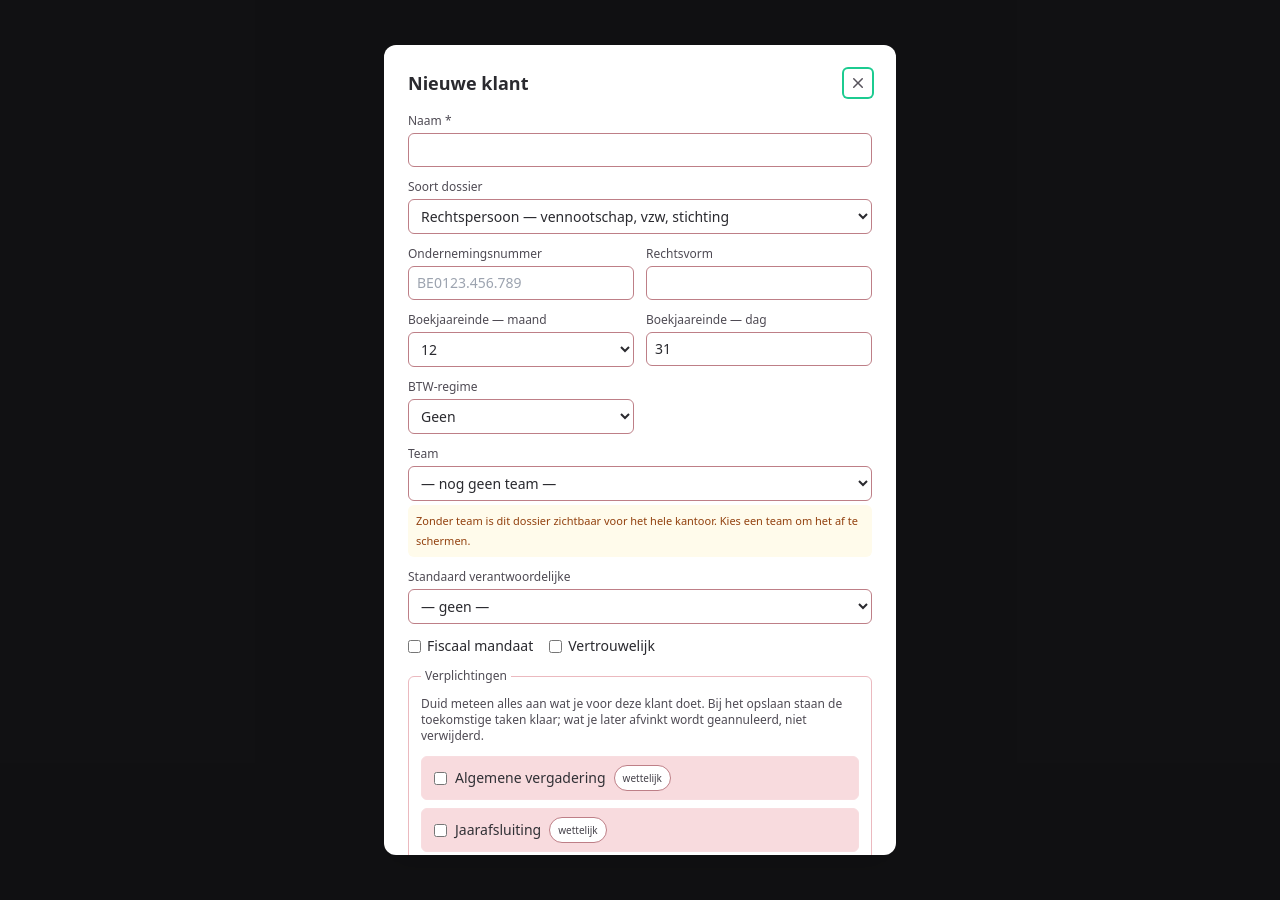
Test: ClientFormModal — submit error handling › shows the RLS reason and SQLSTATE when the insert is refused by row-level security
The width and height of the screenshot is (1280, 900).
Type "Acme BV" into the field labelled "Naam *" at (640, 150), box x1=408 y1=133 x2=872 y2=167
(page scrolled)
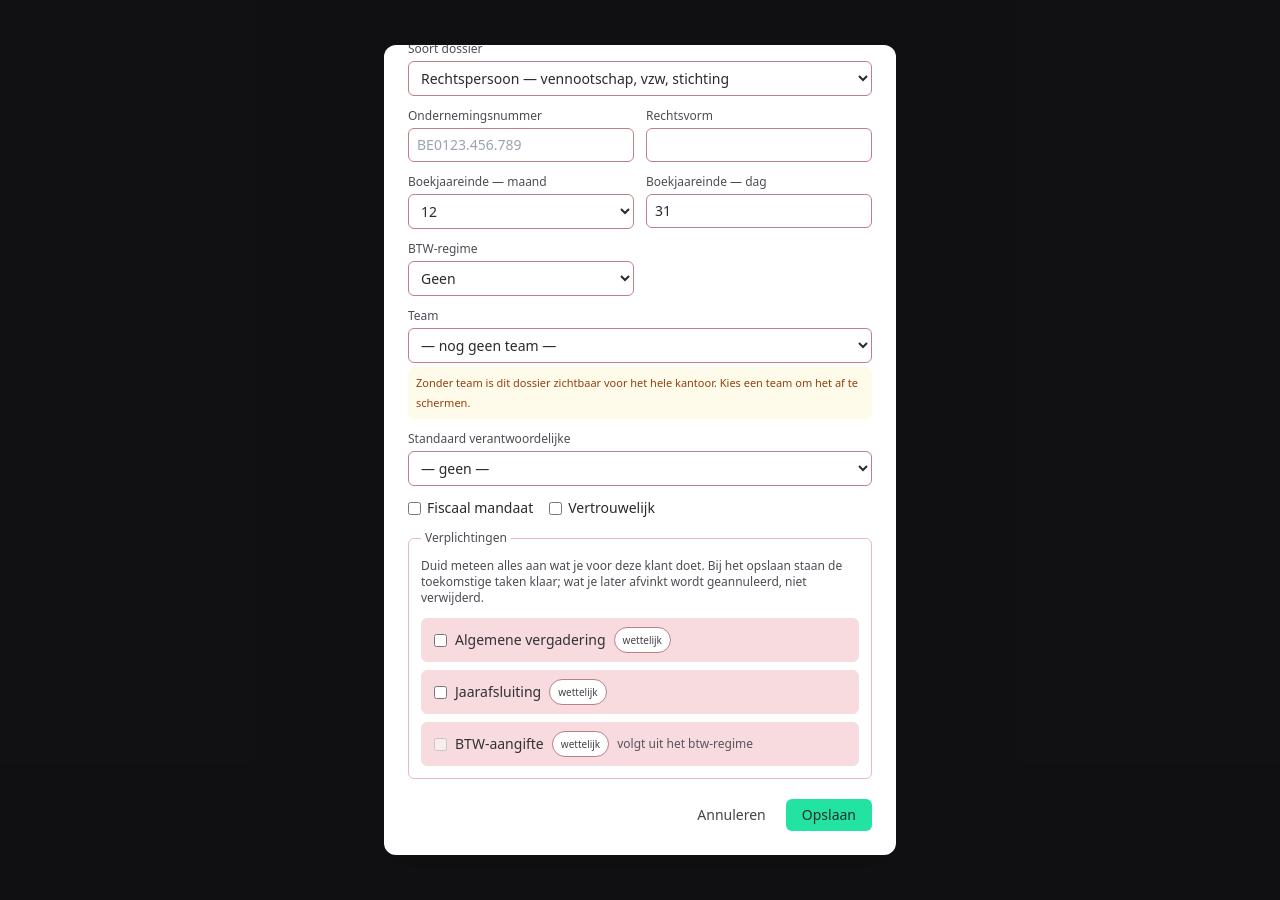
Click the button "Opslaan" at (829, 815), box x1=786 y1=799 x2=872 y2=831
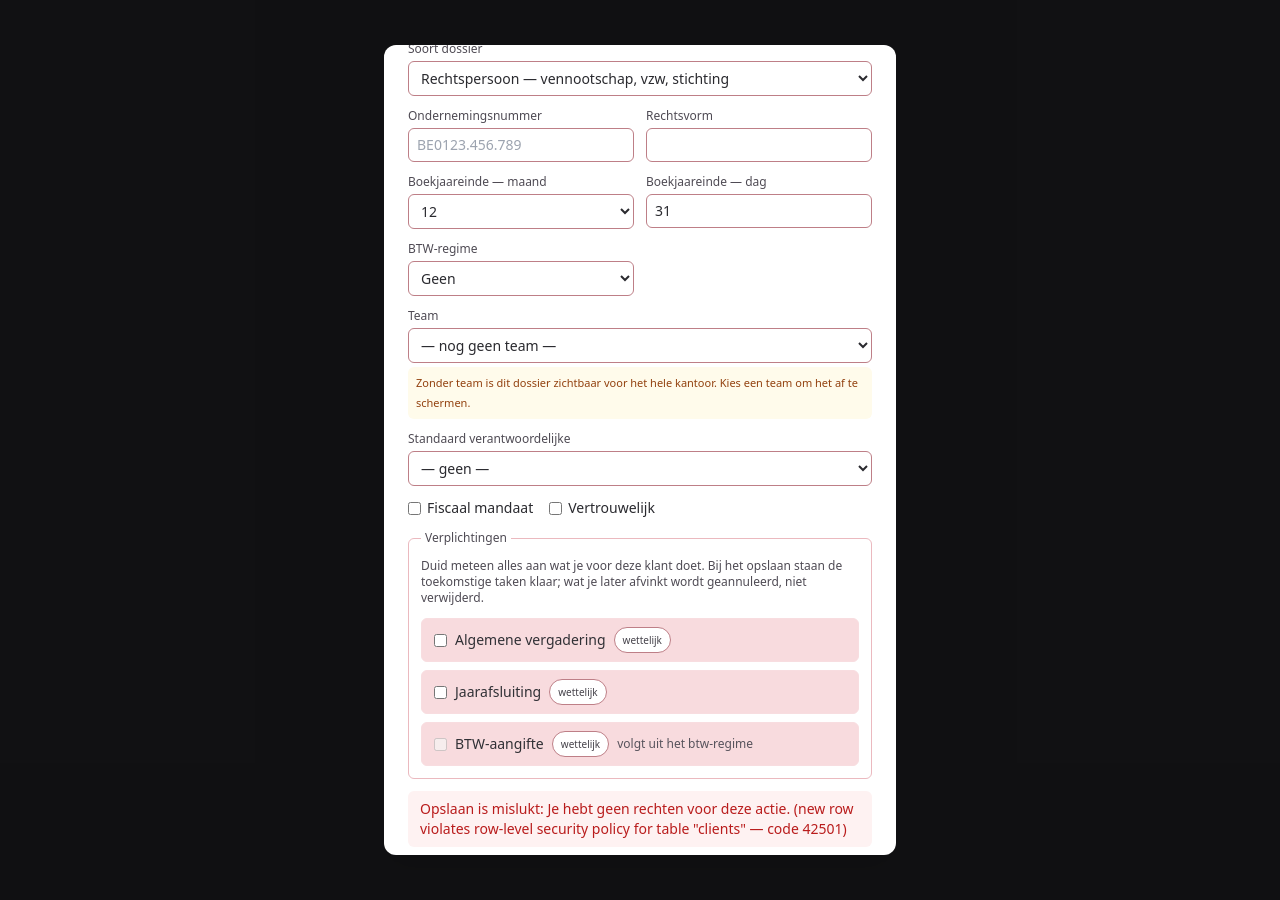
expect the message shows "Opslaan is mislukt: Je hebt geen rechten voor deze actie.": met, box x1=420 y1=799 x2=854 y2=838
expect the message shows "row-level security": met, box x1=420 y1=799 x2=854 y2=838
expect the message shows "code 42501": met, box x1=420 y1=799 x2=854 y2=838
